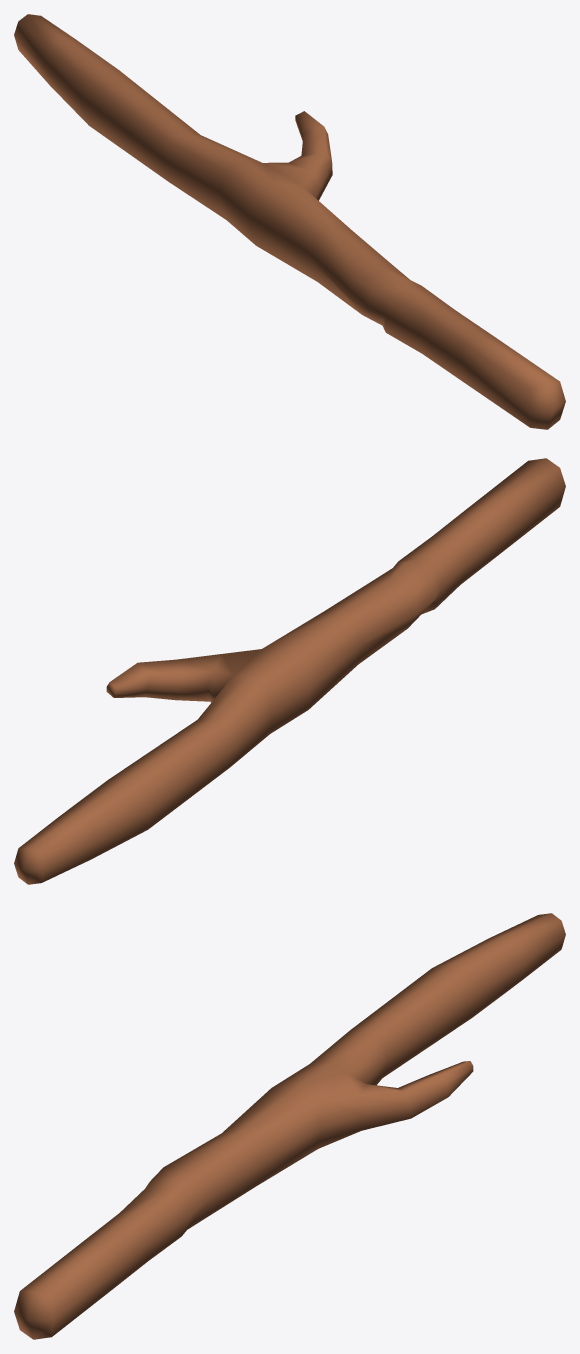
The model's file is Pick_ Stick (2).fbx.
3 renders of one model, top to bottom at view 1: azimuth 30°, elevation 25°; view 2: azimuth 150°, elevation 25°; view 3: azimuth 330°, elevation 25°, orthographic.
Visible parts, largest first — view 1: Cube; view 2: Cube; view 3: Cube.
Boxes of the visible parts, bbox=[...] form: Cube: bbox=[14, 14, 565, 429]; Cube: bbox=[14, 458, 565, 884]; Cube: bbox=[14, 913, 565, 1339].
Size of the model in its own units: 369 by 157 by 2501.
